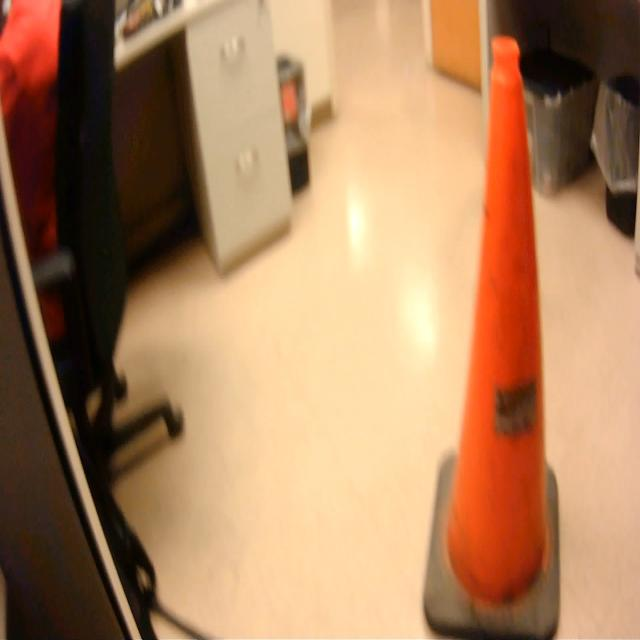traffic cone: (418, 30, 566, 640)
